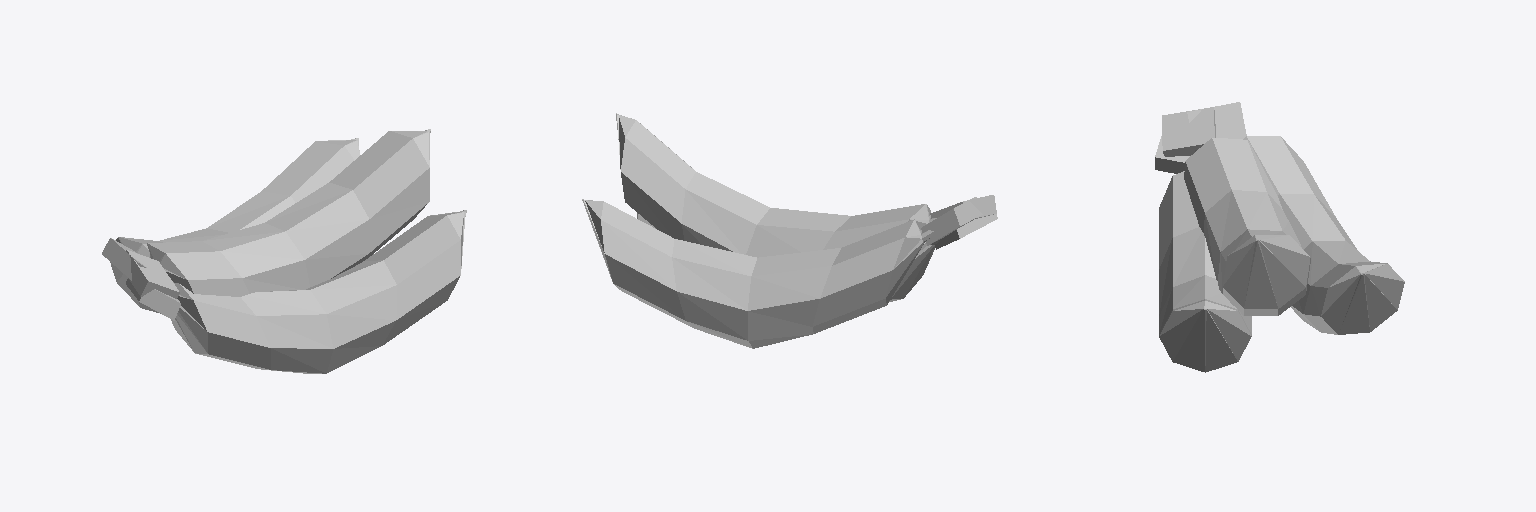
Rendered from Banana.obj.
3 renders of one model, left to right at view 1: azimuth 30°, elevation 25°; view 2: azimuth 150°, elevation 25°; view 3: azimuth 270°, elevation 25°, orthographic.
Parts seen in each view (by area): view 1: Cylinder001, Cylinder003, Cylinder002; view 2: Cylinder002, Cylinder003, Cylinder001; view 3: Cylinder003, Cylinder002, Cylinder001.
Part boxes in pixels (x1,y1,x2,y2): Cylinder001: (126, 210, 466, 373); Cylinder003: (126, 129, 430, 298); Cylinder002: (102, 138, 359, 313); Cylinder002: (582, 197, 982, 348); Cylinder003: (616, 113, 996, 257); Cylinder001: (637, 213, 997, 301); Cylinder003: (1162, 107, 1310, 315); Cylinder002: (1187, 102, 1404, 334); Cylinder001: (1155, 136, 1251, 372).
Bounding box in the file's own units: 23.62 × 12.36 × 14.77.